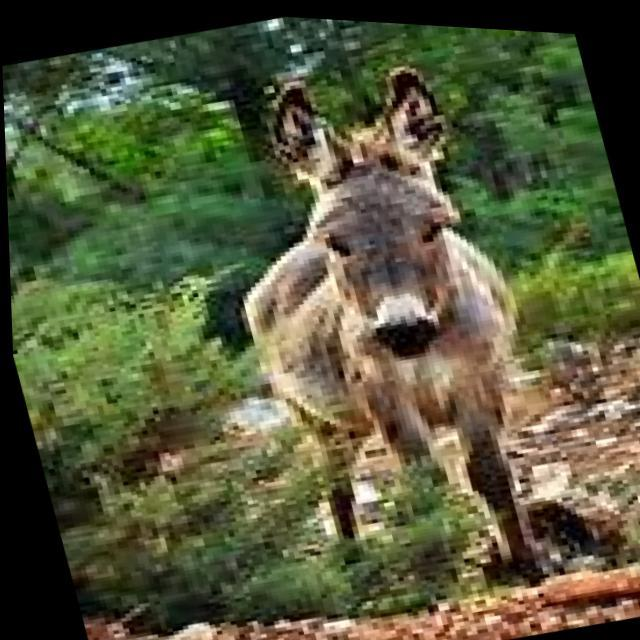Donkey: (150, 7, 640, 616)
